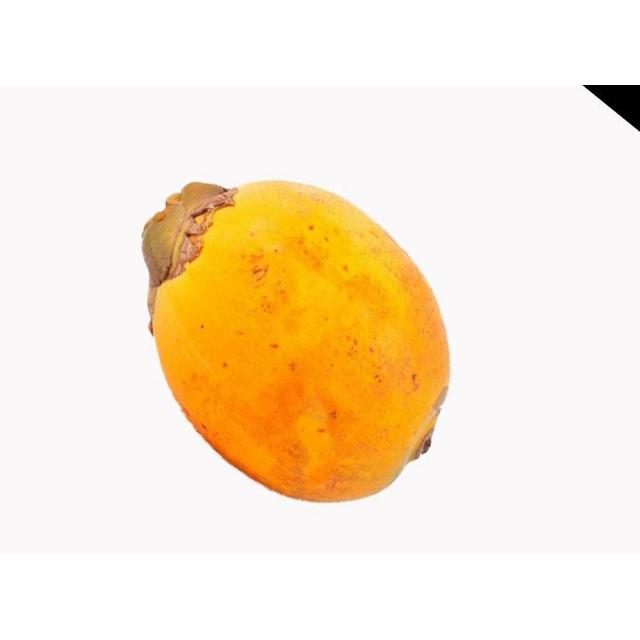good: (141, 180, 452, 505)
